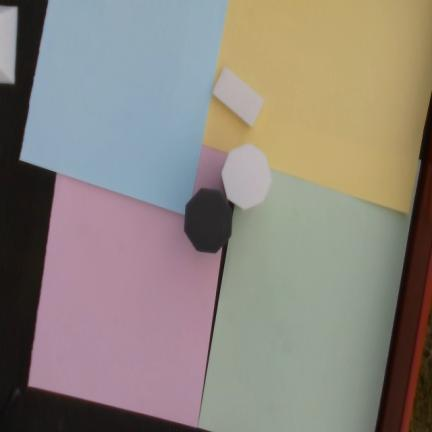Paralelepipedo: (213, 67, 265, 127)
Piramide: (0, 5, 19, 85)
Prisma_hexagonal: (221, 143, 272, 209), (184, 188, 232, 253)
